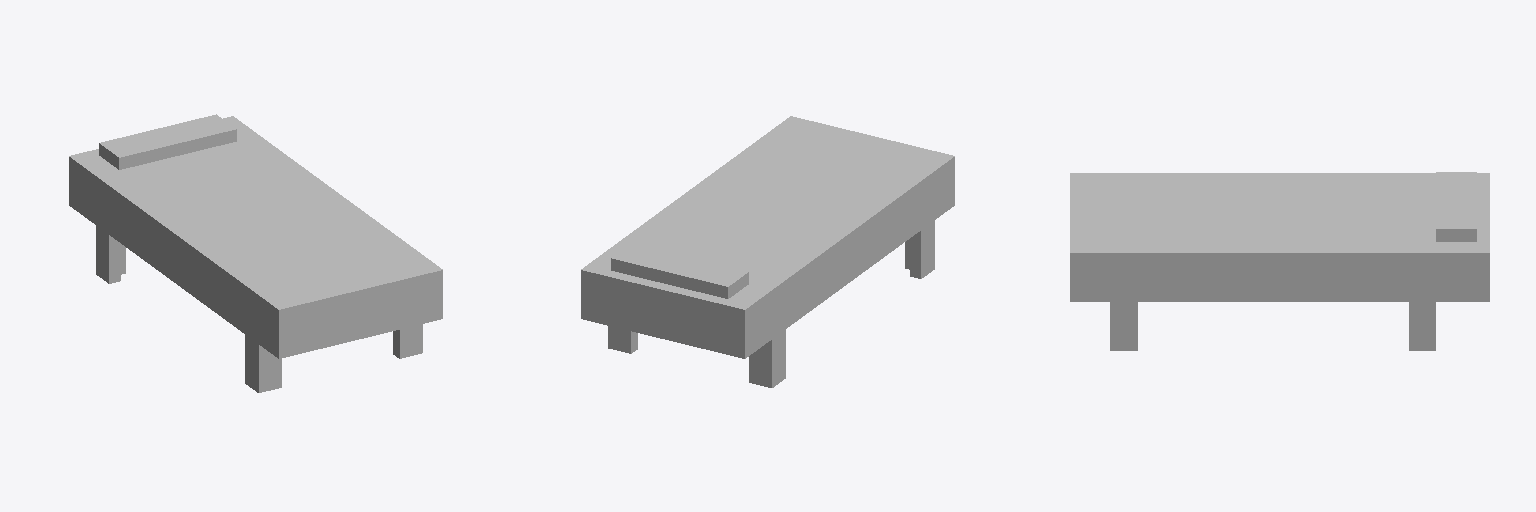
Rendered from GuestBed.obj.
The picture shows the model from 3 angles: view 1: azimuth 30°, elevation 25°; view 2: azimuth 150°, elevation 25°; view 3: azimuth 270°, elevation 25°; orthographic projection.
Parts seen in each view (by area): view 1: object 1; view 2: object 1; view 3: object 1.
Part boxes in pixels (x1,y1,x2,y2): object 1: (69,114,442,392); object 1: (581,116,954,387); object 1: (1070,172,1489,350).
Size of the model in its own units: 1.4 by 0.9 by 3.1.